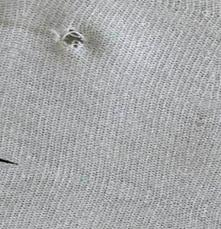hole: (57, 27, 90, 54)
